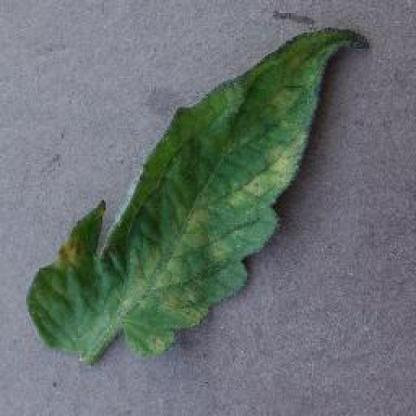Tomato_Leaf_Mold: (30, 32, 368, 354)
